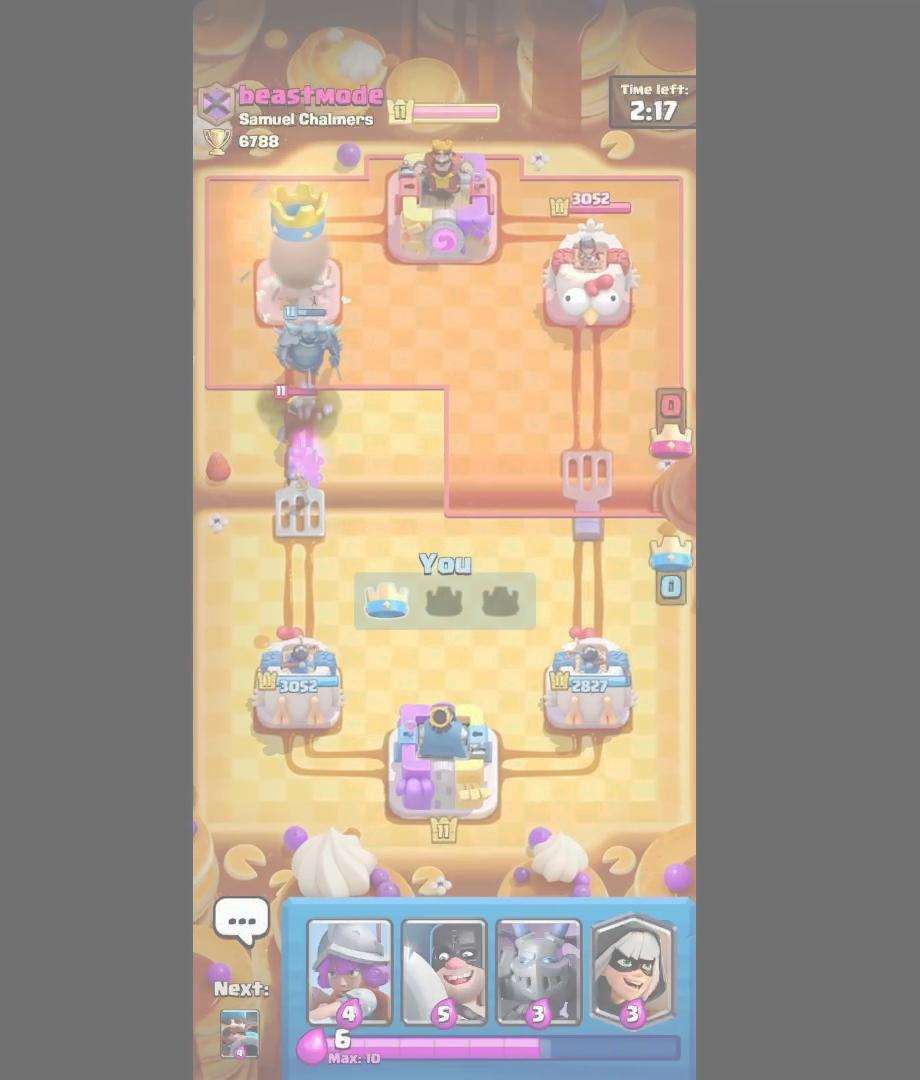Knight: (284, 380, 342, 436)
